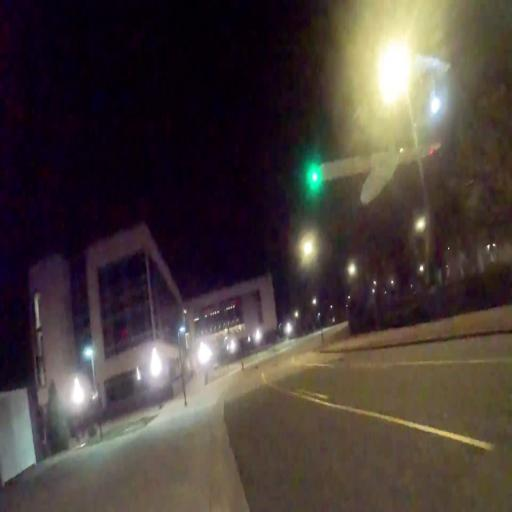uav: (300, 122, 448, 214)
